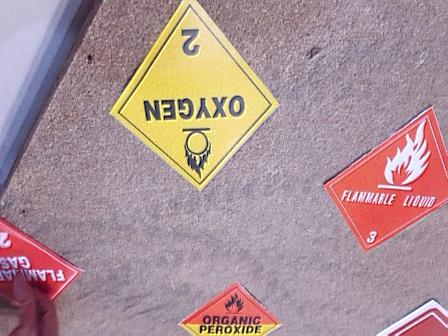flammable: (322, 105, 448, 256), (1, 211, 83, 318)
organic-peroxide: (176, 282, 283, 336)
oxidizer: (110, 1, 279, 192)
